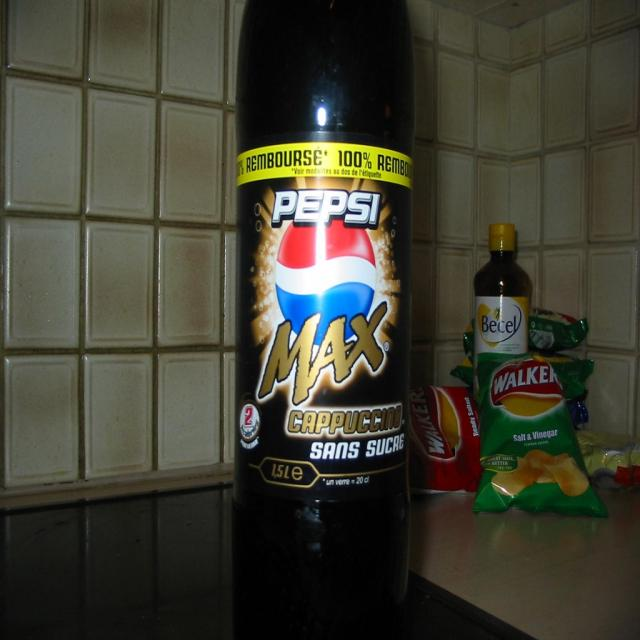pepsi: (272, 214, 379, 348)
